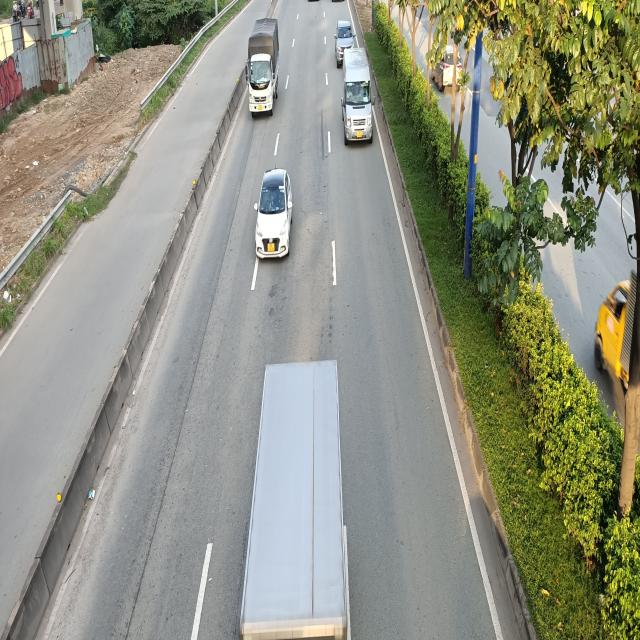car: (256, 169, 294, 261)
truck: (248, 15, 282, 115)
van: (341, 47, 375, 144)
